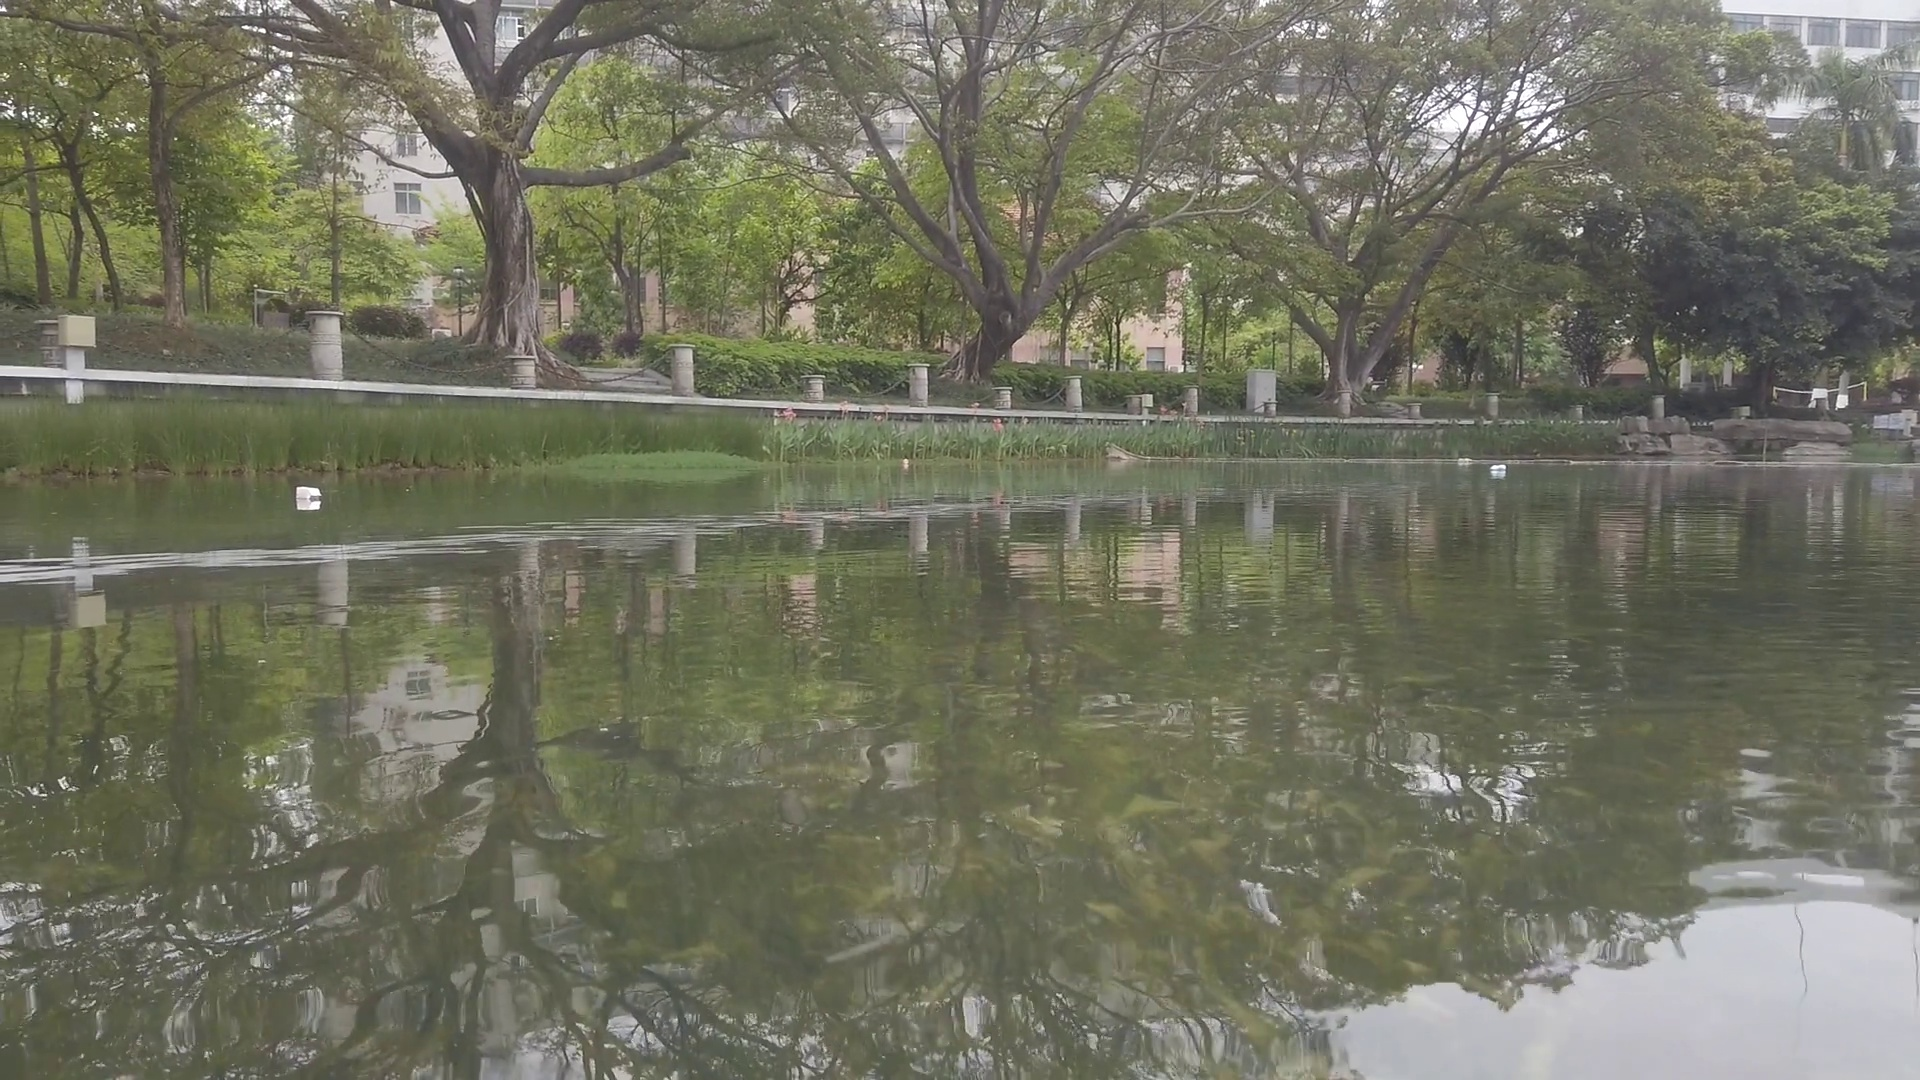bottle: (1491, 463, 1506, 472), (1458, 458, 1476, 464), (901, 458, 909, 469)
carton: (291, 484, 319, 501)
